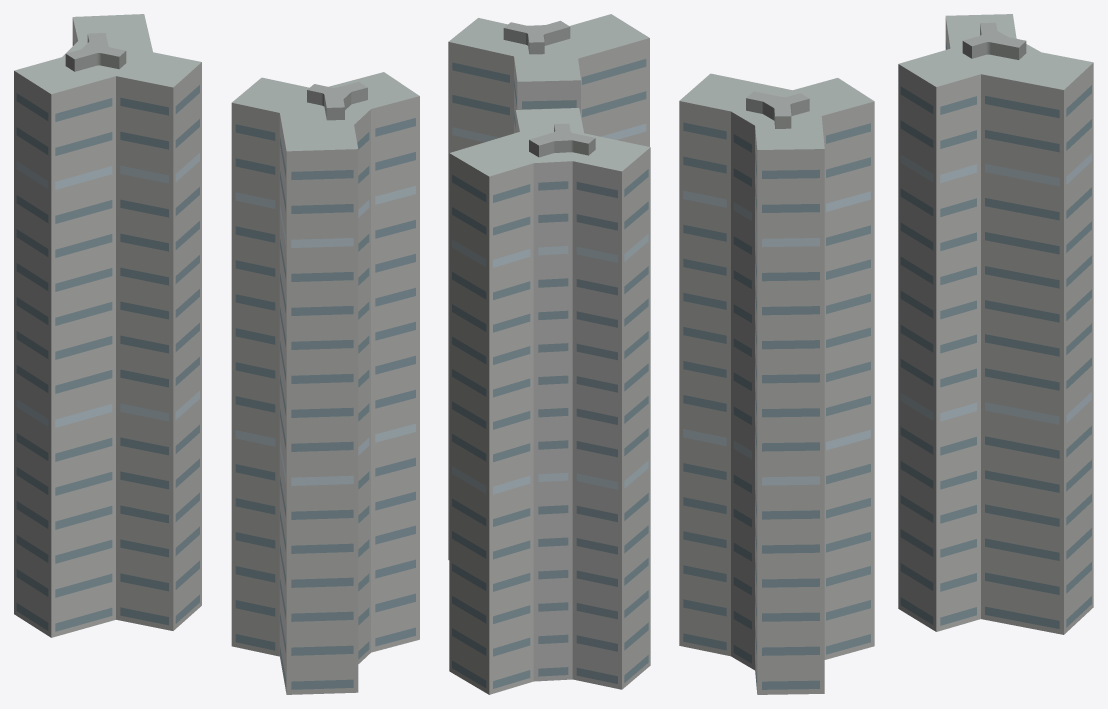
Rendered from apt-a15283801.glb.
3 views of the same model, side by side, from view 1: azimuth 30°, elevation 25°; view 2: azimuth 150°, elevation 25°; view 3: azimuth 270°, elevation 25° (orthographic). The views are drawn at different scales.
Parts seen in each view (by area): view 1: apt-a15283801; view 2: apt-a15283801; view 3: apt-a15283801.
Part boxes in pixels (x1=…): apt-a15283801: x1=14, y1=14, x2=419, y2=694; apt-a15283801: x1=448, y1=14, x2=650, y2=694; apt-a15283801: x1=679, y1=14, x2=1093, y2=694.
Size of the model in its own units: 56.04 by 107 by 72.12.
